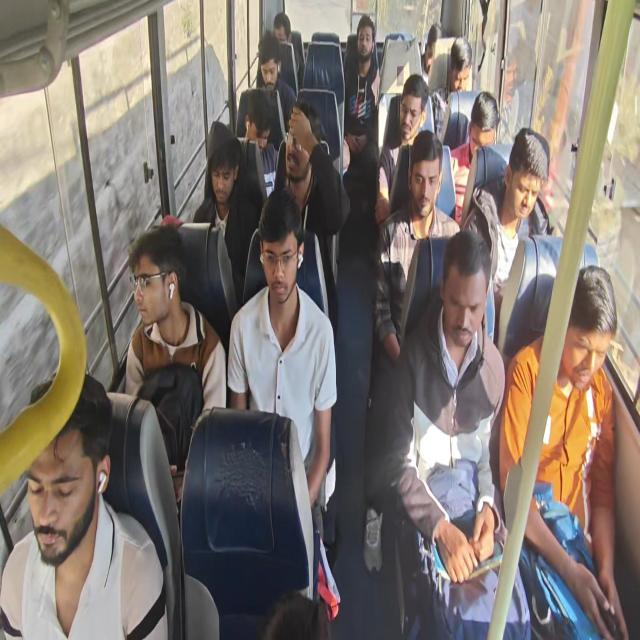person: (19, 384, 108, 550), (554, 277, 610, 401), (127, 238, 179, 320), (436, 256, 484, 344), (258, 211, 299, 300), (500, 140, 542, 220), (438, 36, 480, 108), (206, 128, 238, 207), (406, 144, 440, 217), (283, 111, 313, 186), (242, 97, 278, 154), (467, 96, 499, 157), (255, 44, 288, 100), (395, 96, 428, 150), (348, 16, 382, 64), (418, 20, 445, 70), (274, 10, 301, 45)
